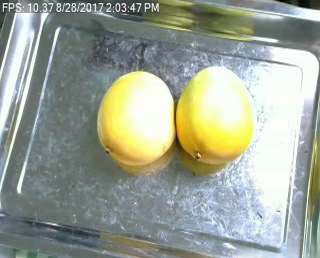Mango: (91, 62, 179, 164), (174, 60, 259, 164)
